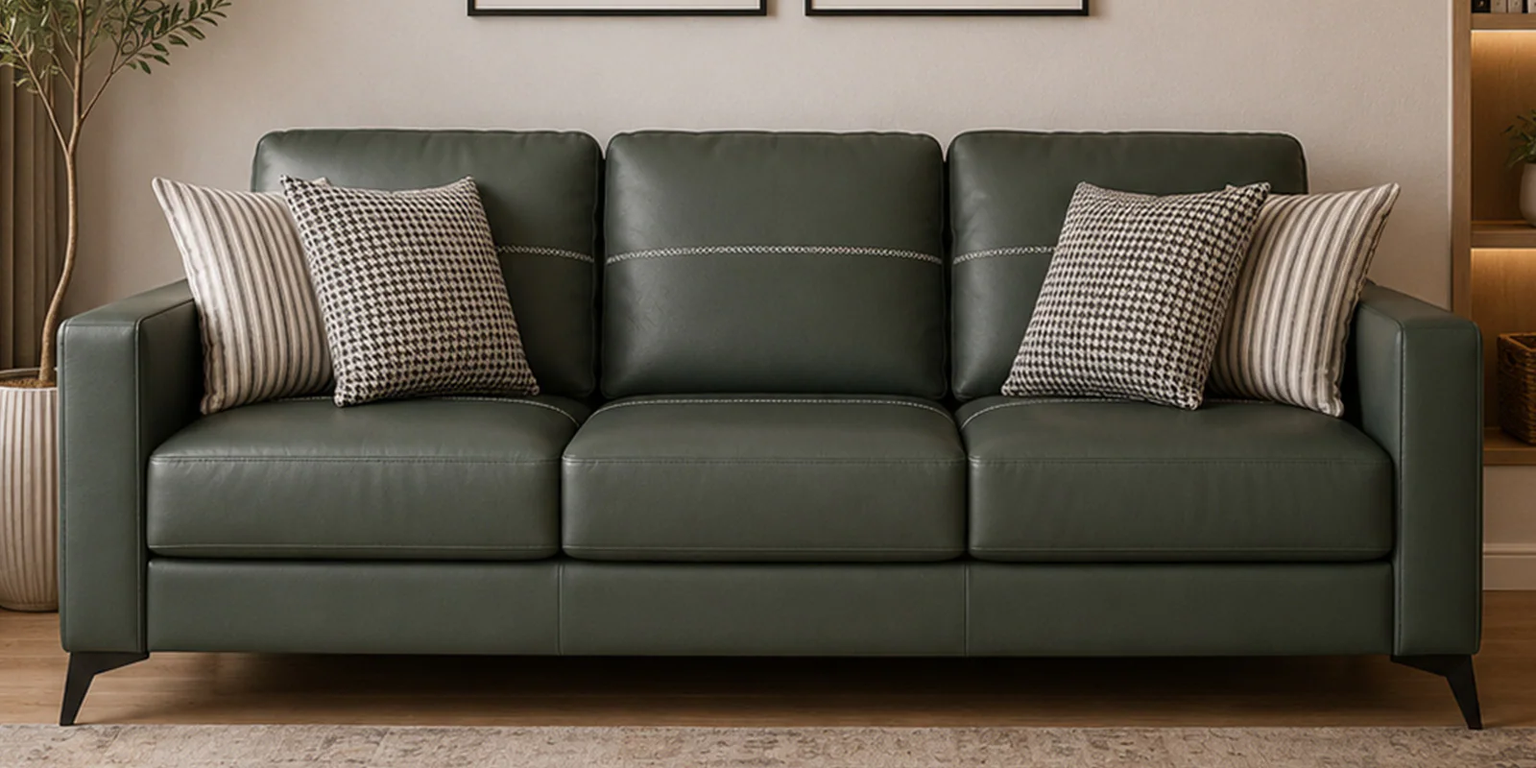3seatersofa: (60, 132, 1482, 727)
backrest: (252, 130, 1306, 399)
base: (148, 559, 1395, 657)
leftarmrest: (1349, 286, 1481, 655)
leg: (1391, 655, 1482, 729), (59, 654, 148, 724)
pillow: (1002, 182, 1268, 409), (282, 178, 539, 404), (1210, 184, 1397, 416), (154, 178, 331, 414)
rightarmrest: (60, 284, 201, 655)
seat: (149, 398, 1390, 562)
